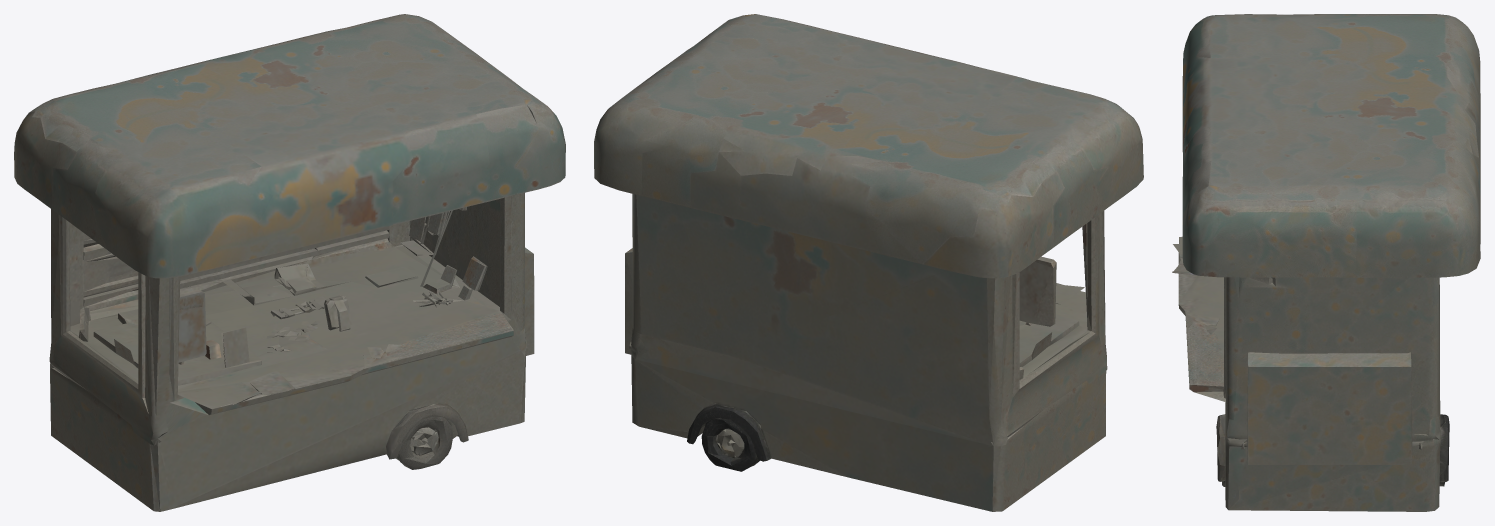
The model's file is mall_kiosk.glb.
3 renders of one model, left to right at view 1: azimuth 30°, elevation 25°; view 2: azimuth 150°, elevation 25°; view 3: azimuth 270°, elevation 25°, orthographic.
Size of the model in its own units: 1.9 by 1.49 by 1.22.
Materials: 1 (1 with a texture image).
